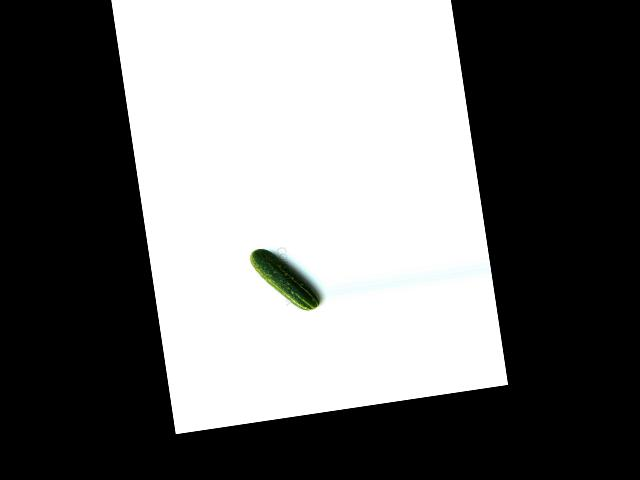cucumber: (248, 241, 321, 318)
